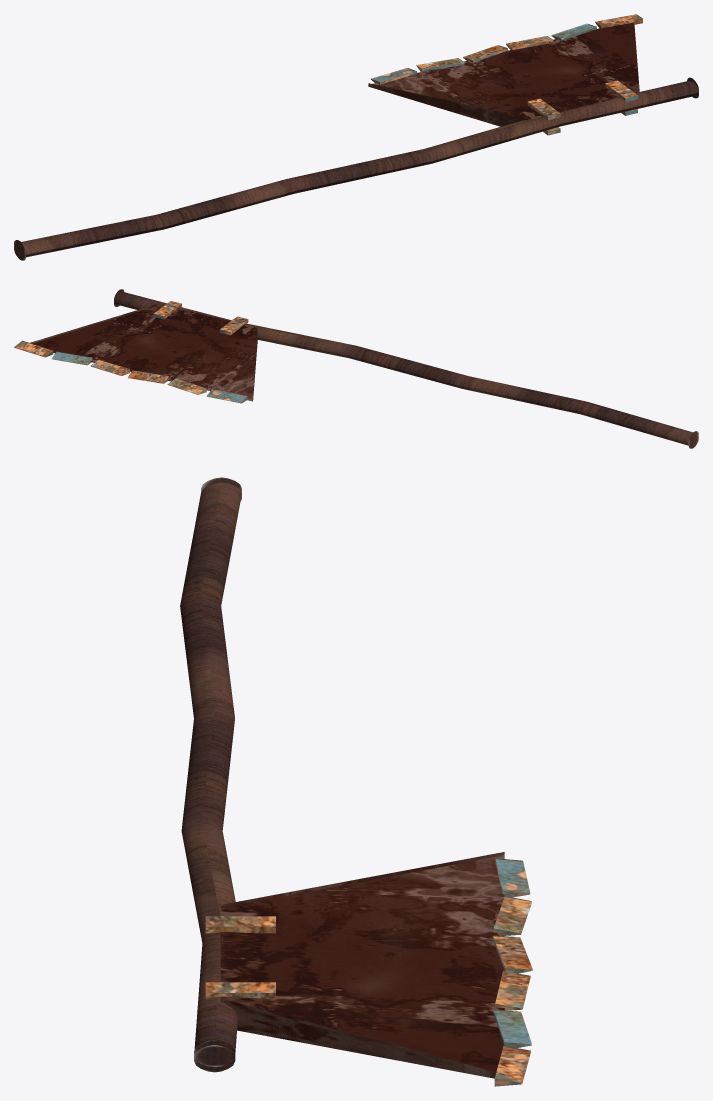
File: axe.fbx
The picture shows the model from 3 angles, top to bottom: view 1: azimuth 30°, elevation 25°; view 2: azimuth 150°, elevation 25°; view 3: azimuth 270°, elevation 25°; orthographic projection. The views are drawn at different scales.
Parts seen in each view (by area): view 1: Box001; view 2: Box001; view 3: Box001.
Boxes of the visible parts, box(x1,y1,x2,y2) form: Box001: box(14, 14, 698, 260); Box001: box(14, 289, 698, 448); Box001: box(180, 477, 532, 1086).
Size of the model in its own units: 78.79 by 2.03 by 19.91.
Materials: 1 (1 with a texture image).
